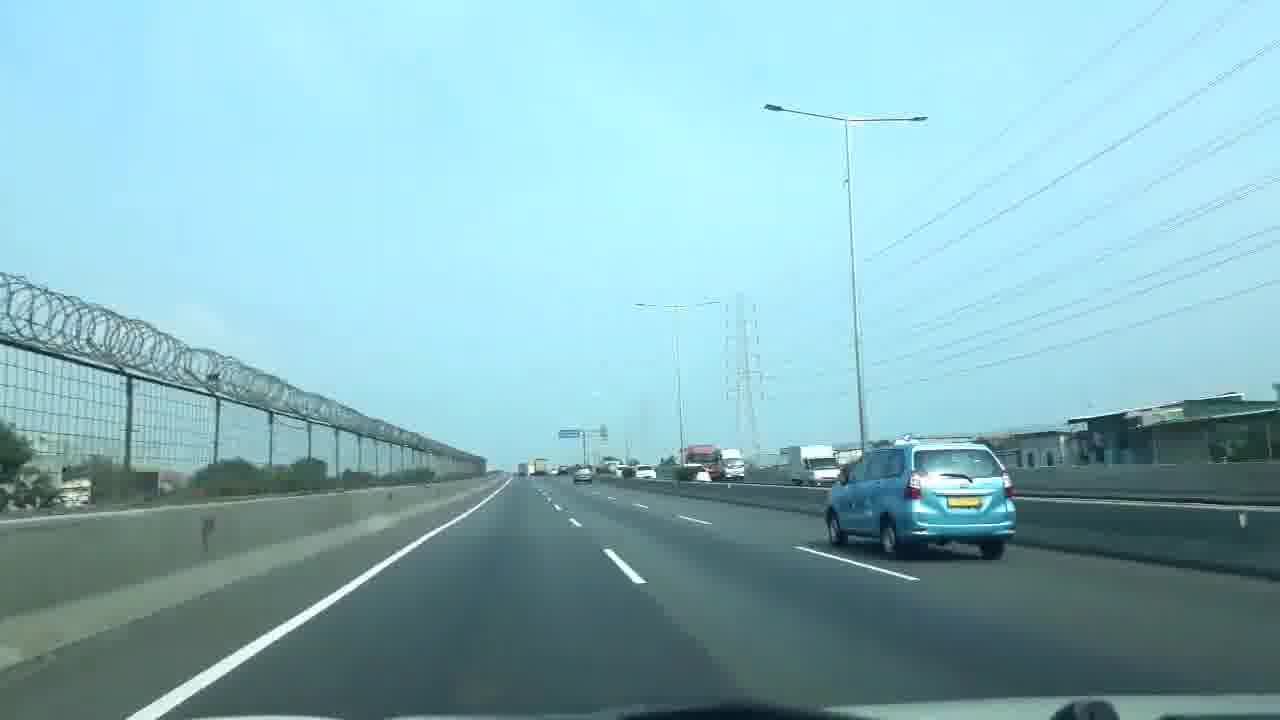plate_positive: (947, 495, 982, 508)
